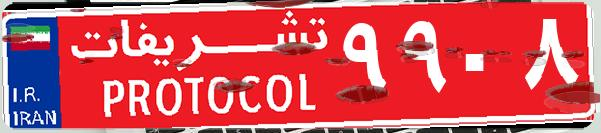0: (460, 20, 520, 115)
8: (520, 20, 580, 115)
9: (340, 20, 400, 115), (400, 20, 460, 115)
تشریفات: (60, 8, 340, 125)
